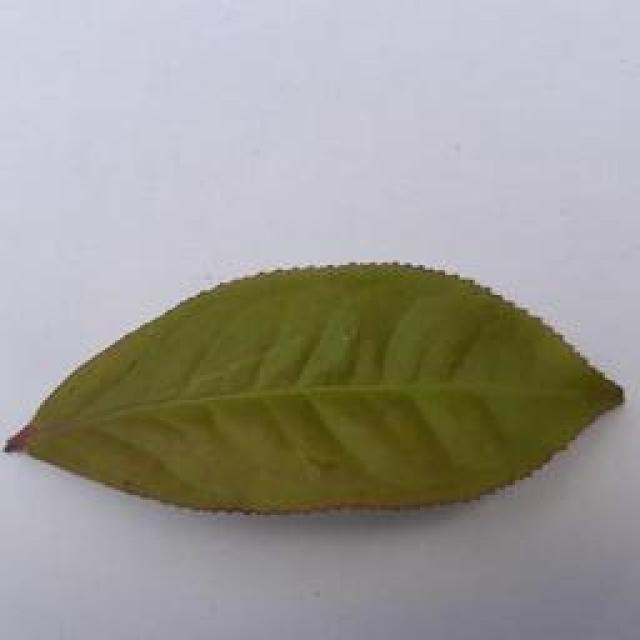Red Leaf Spot: (4, 264, 632, 519)
